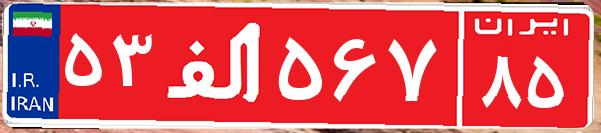3: (110, 28, 158, 105)
5: (273, 28, 330, 110), (57, 26, 110, 107), (525, 38, 570, 115)
6: (330, 28, 385, 110)
7: (385, 28, 445, 110)
8: (475, 38, 525, 113)
الف: (158, 15, 273, 115)
